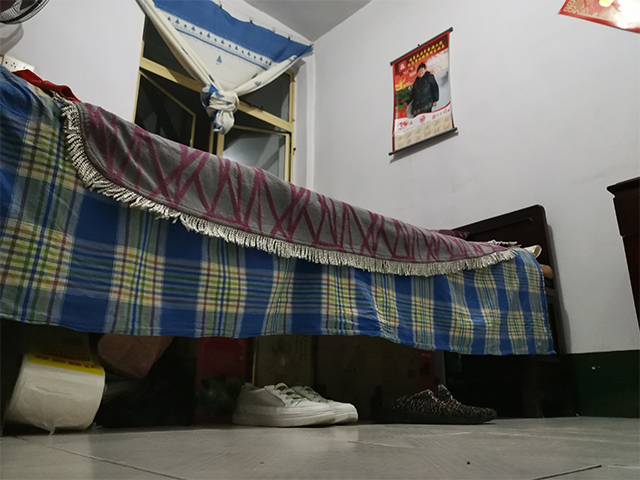bed: (1, 66, 573, 420)
